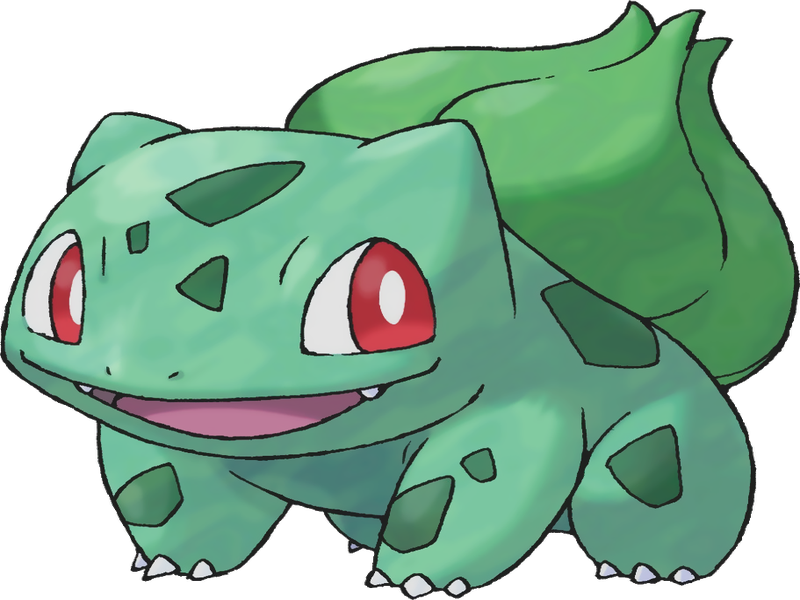bulbasaur: (1, 1, 799, 595)
